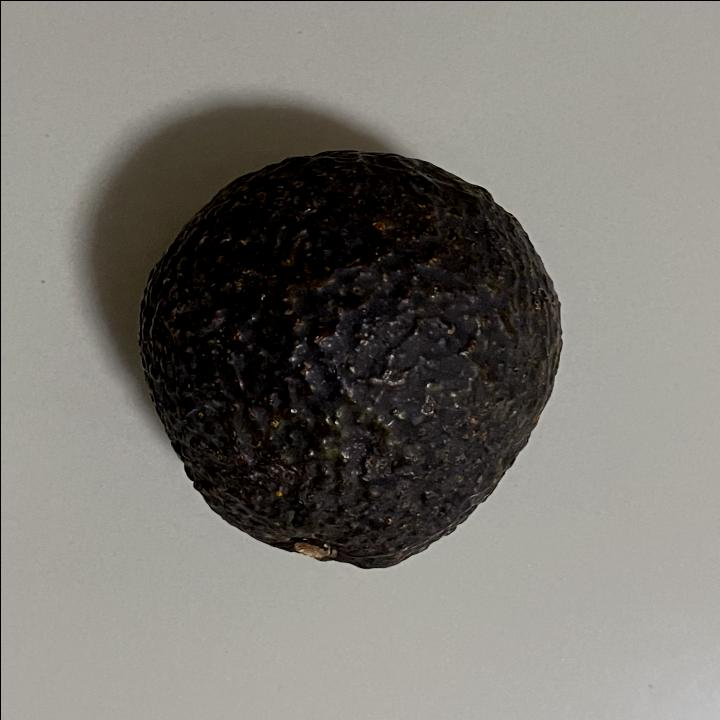Level3: (126, 140, 579, 578)
